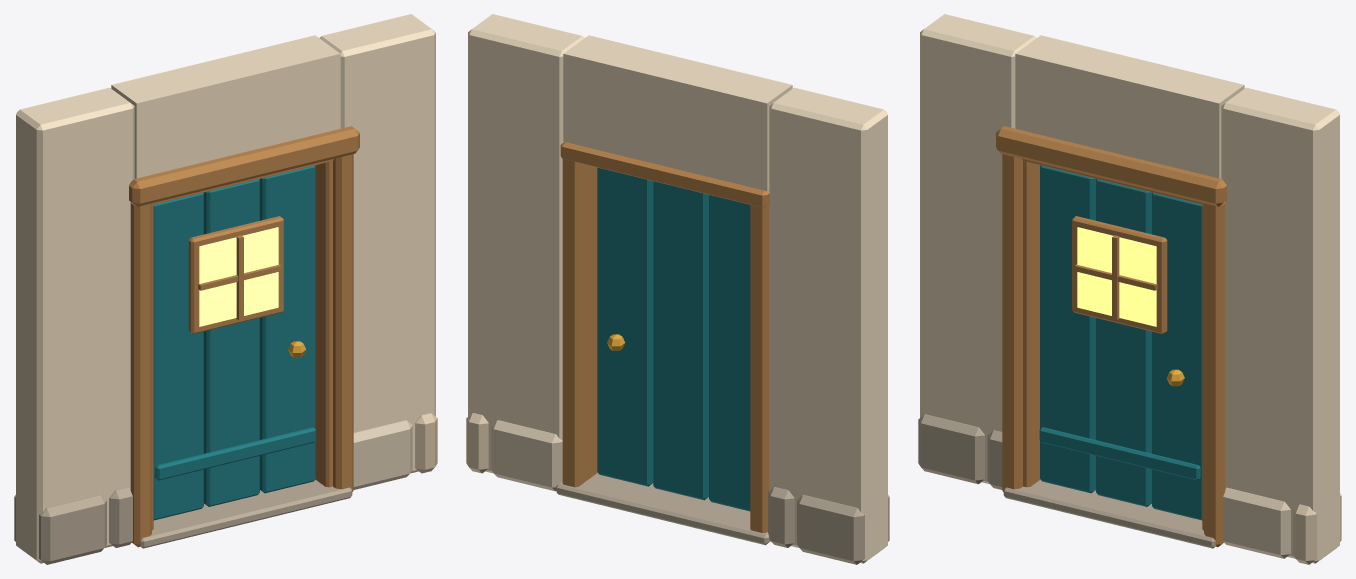
File: wall_door.glb
3 views of the same model, side by side, from view 1: azimuth 30°, elevation 25°; view 2: azimuth 150°, elevation 25°; view 3: azimuth 330°, elevation 25° (orthographic).
Visible parts, largest first — view 1: wall_door, part_door_leaf; view 2: wall_door, part_door_leaf; view 3: wall_door, part_door_leaf.
Part boxes in pixels (x1,y1,x2,y2): wall_door: (14, 14, 437, 564); part_door_leaf: (153, 165, 316, 520); wall_door: (466, 14, 889, 564); part_door_leaf: (597, 167, 750, 511); wall_door: (918, 14, 1341, 564); part_door_leaf: (1039, 165, 1202, 520).
Bounding box in the file's own units: 2 × 2.1 × 0.35.
